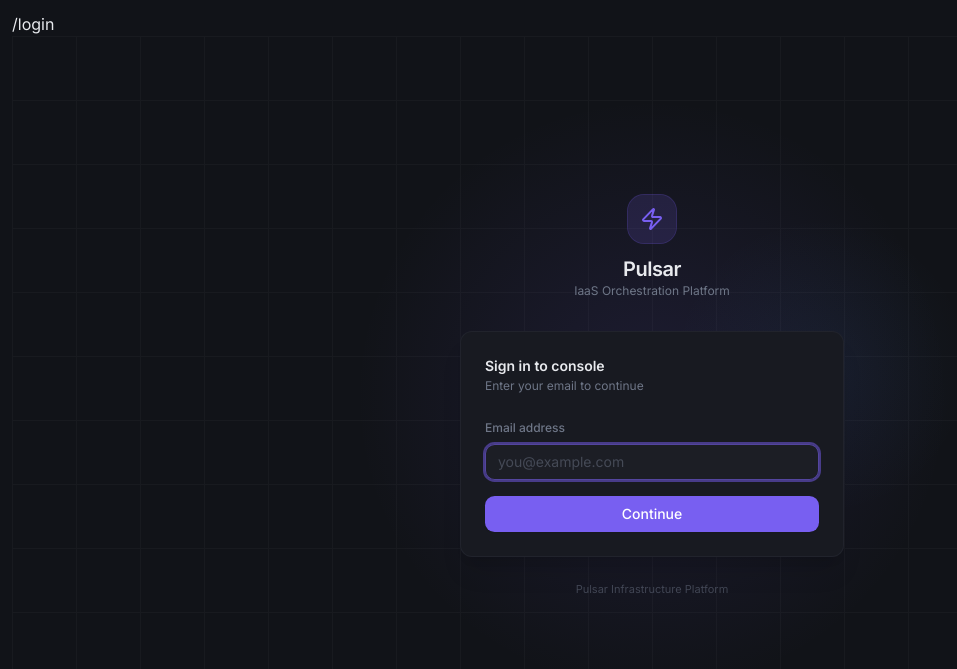
Scenario: LoginPage › still offers password login when the SSO lookup fails
Type "ada@example.test" into the field labelled "Email address" at (652, 462), box [485,444,819,480]
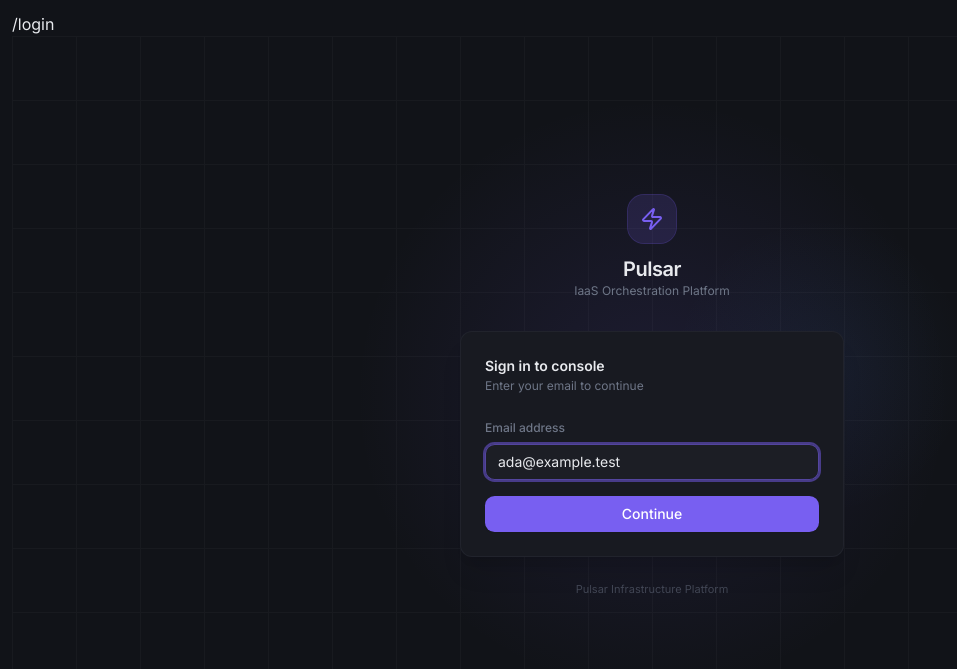
Click the button "Continue" at (652, 514), box [485,496,819,532]
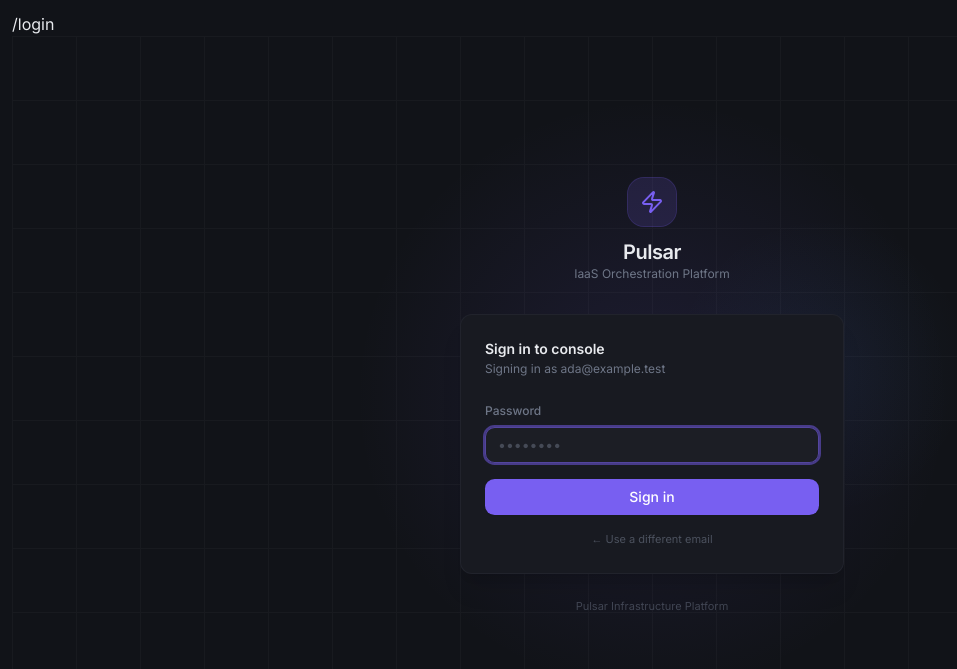
Result: the password field labelled "Password" is shown at [485,427,819,463]
